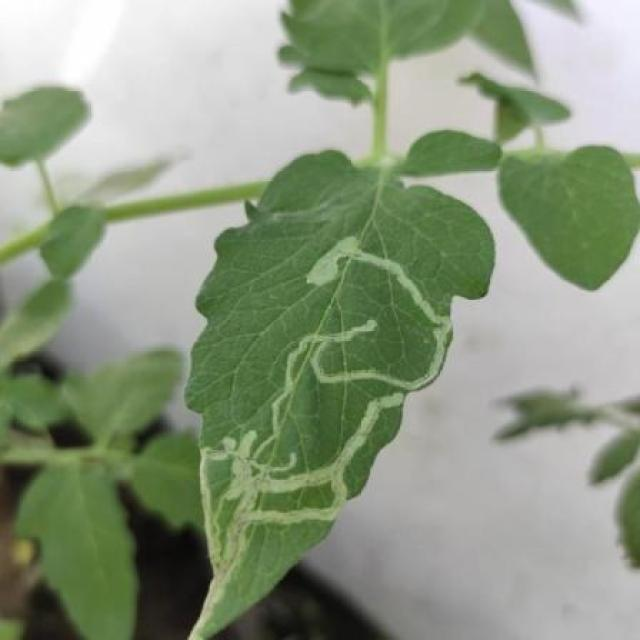Healthy: (497, 139, 640, 290)
Leaf Miner: (187, 146, 493, 640)
